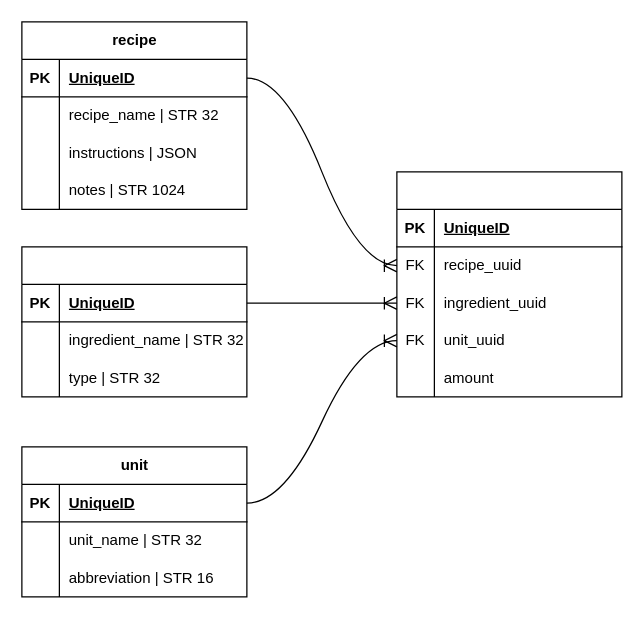
Image size: 644x619. Some labels were removed from this diagram. Each missing label, with the box of its shape:
ingredients: (21, 246, 247, 397)
recipe_ingredients: (396, 171, 622, 397)
